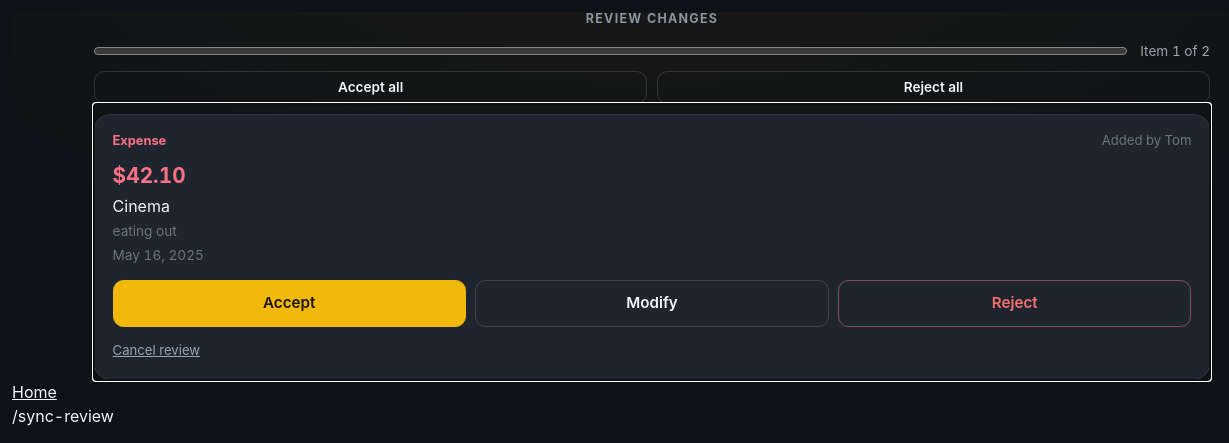
walking the items › advances after each decision and reaches the summary after the last
Step 1. Click the button with aria-label "Accept $42.10 expense added by tom" → (289, 303), box 113,280 -> 466,327
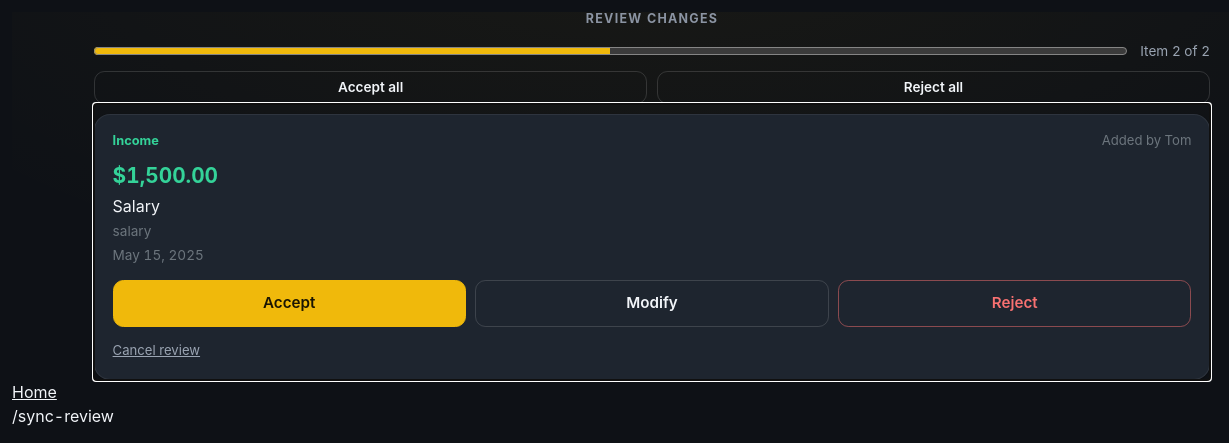
Expected: the text "Item 2 of 2" is shown, 1140,41 -> 1210,61
Expected: the text "Salary" is shown, 113,196 -> 160,216
Step 2. Click the button with aria-label "Reject $1,500.00 income added by tom" → (1015, 303), box 838,280 -> 1191,327
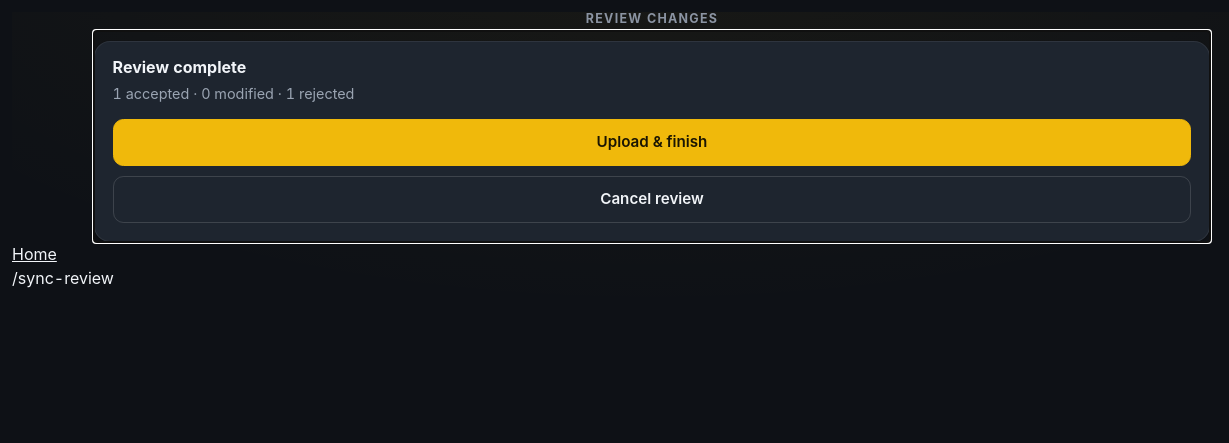
Expected: the heading "Review complete" is shown, 113,57 -> 246,77
Expected: the text "1 accepted · 0 modified · 1 rejected" is shown, 113,85 -> 354,102
